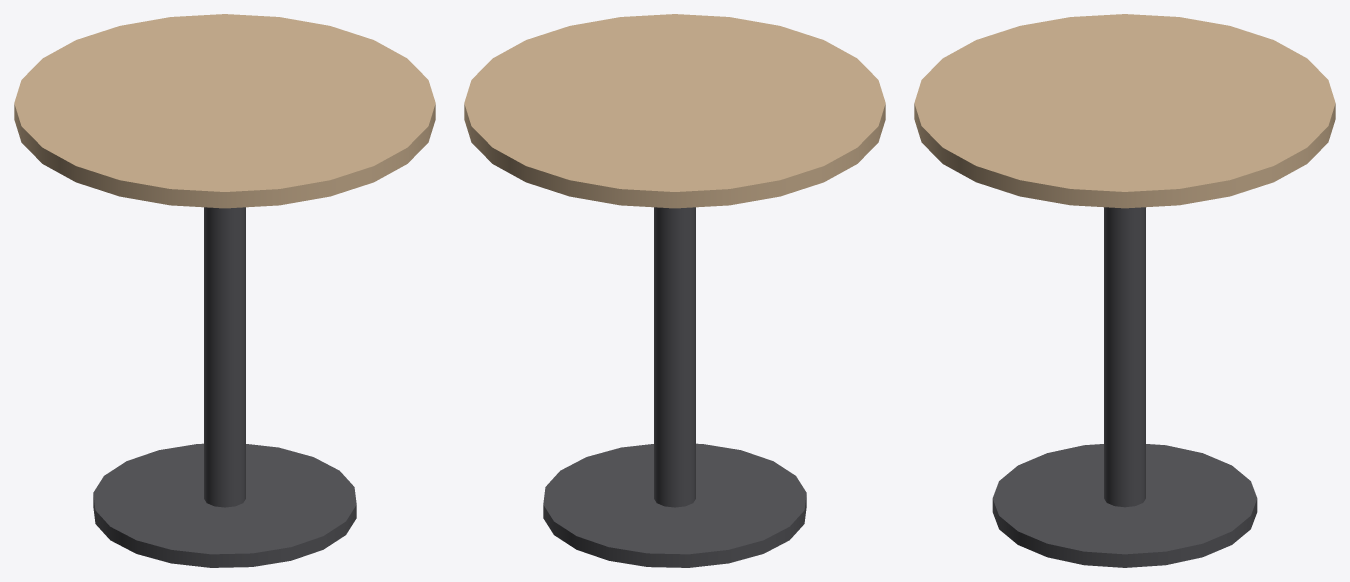
The model's file is CafeTable.glb.
The picture shows the model from 3 angles, left to right: view 1: azimuth 30°, elevation 25°; view 2: azimuth 150°, elevation 25°; view 3: azimuth 270°, elevation 25°; orthographic projection.
Parts seen in each view (by area): view 1: CafeTable; view 2: CafeTable; view 3: CafeTable.
Boxes of the visible parts, box(x1,y1,x2,y2) form: CafeTable: box(14, 14, 435, 567); CafeTable: box(464, 14, 885, 567); CafeTable: box(914, 14, 1335, 567).
Bounding box in the file's own units: 0.7 × 0.75 × 0.7.
